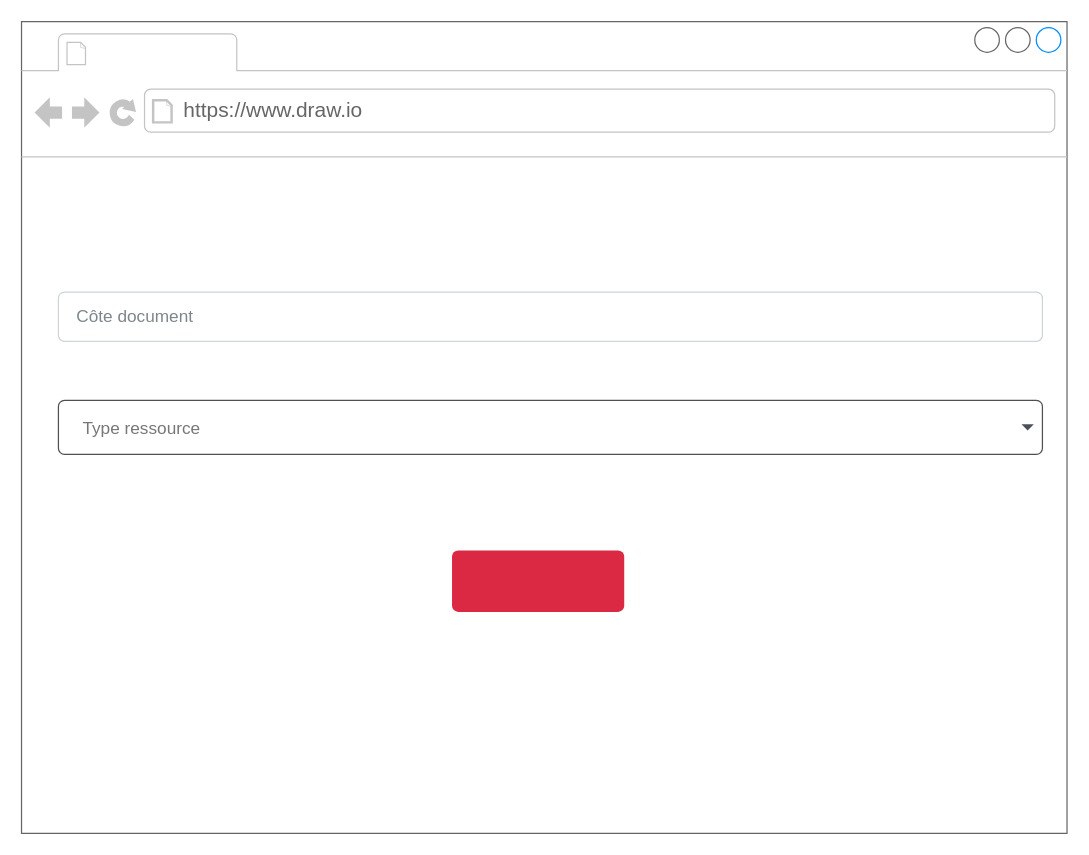
This 1089x855 diagram has some shape labels left out. The centre of each missing label's shape, as x and y in pixels:
"Mettre hors service" goes at (x=537, y=580).
"Mise hors service" goes at (x=76, y=51).
